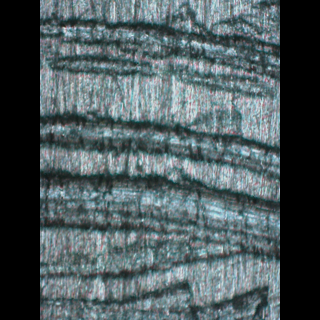d: (39, 0, 279, 101), (40, 163, 279, 263), (40, 106, 279, 180)
